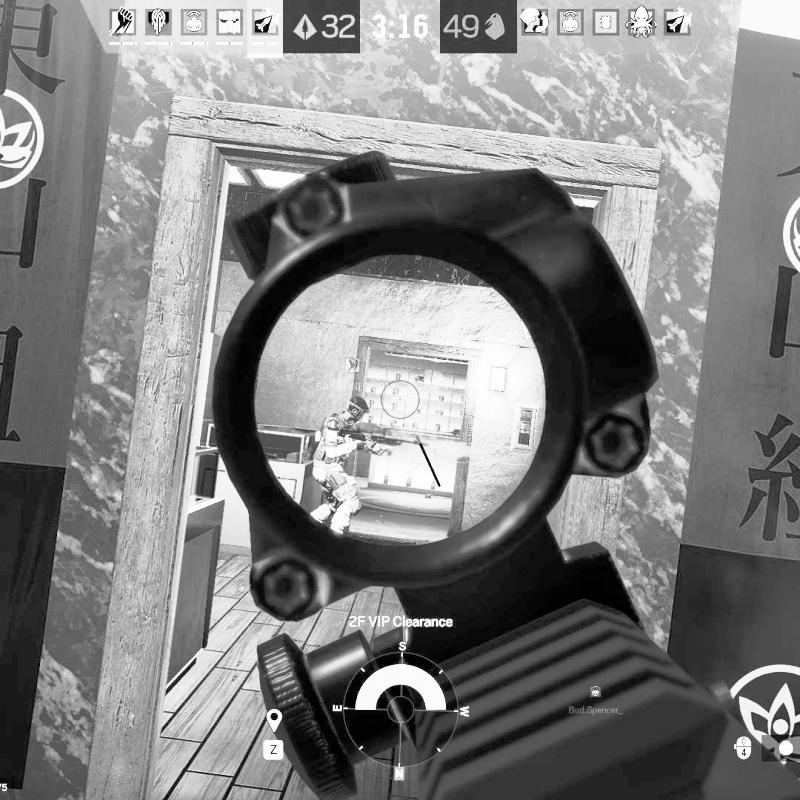Character: (308, 393, 396, 540)
Friend_label: (315, 355, 389, 391)
Head: (345, 394, 370, 423)
